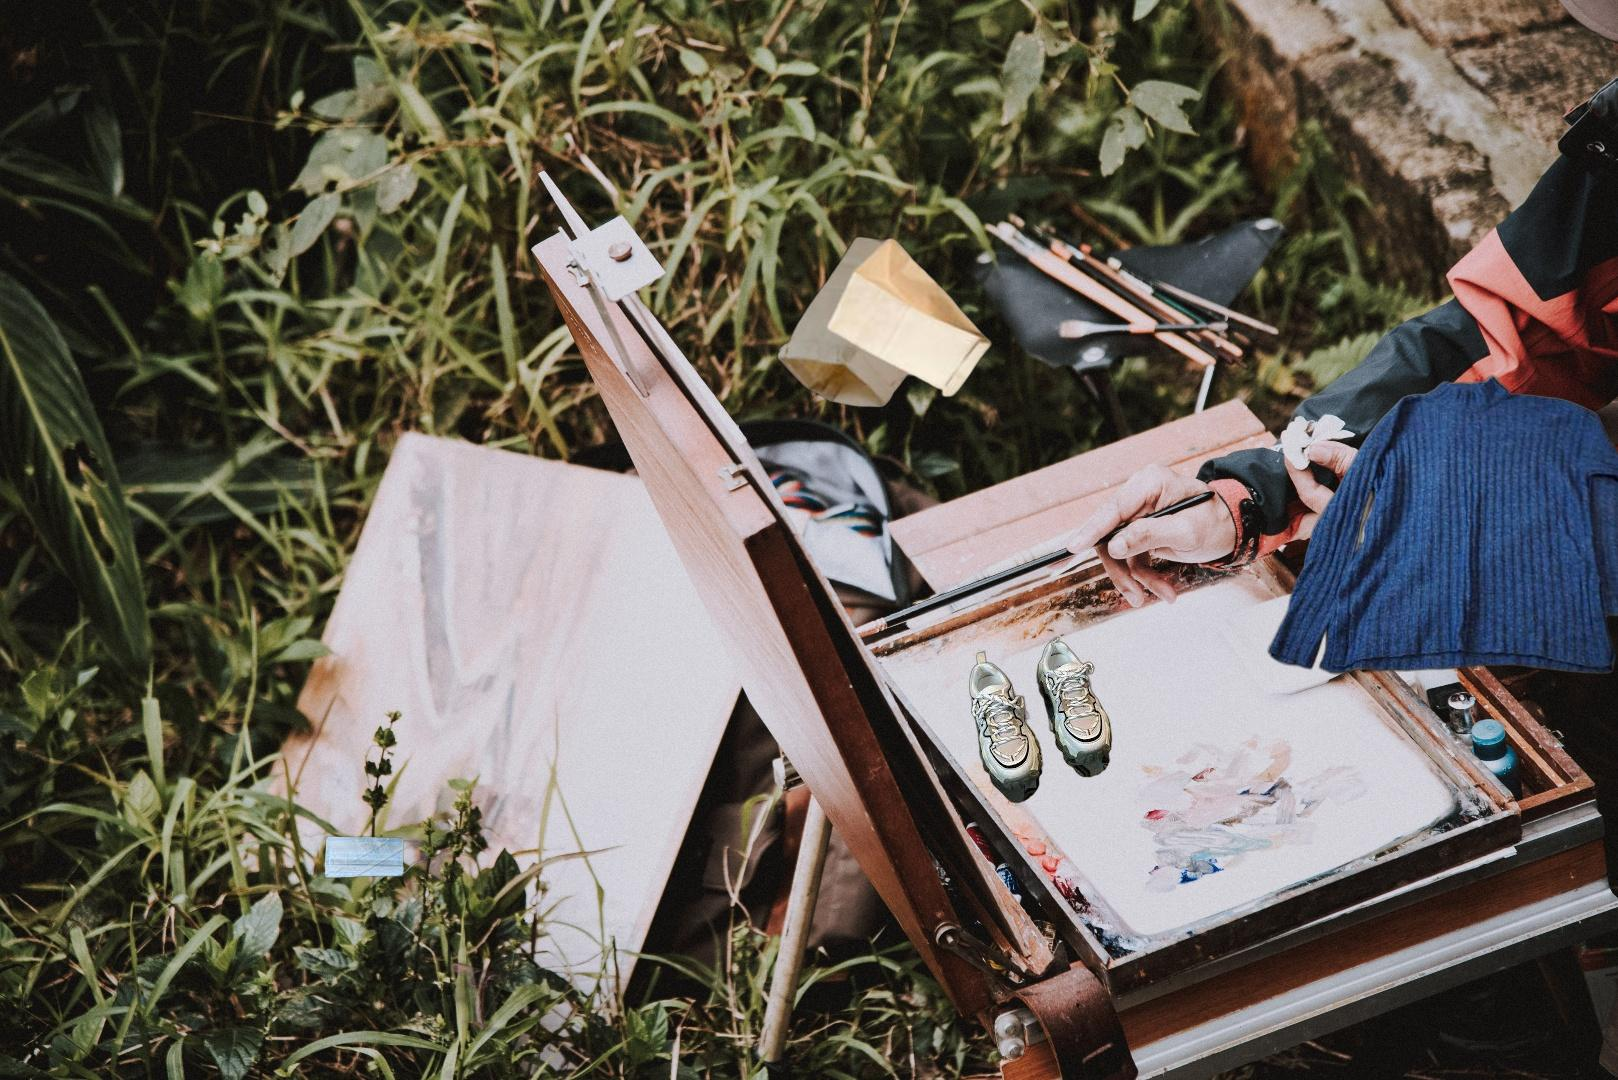clothes: (1265, 365, 1618, 677)
paper-bag: (773, 234, 995, 442)
shoes: (966, 634, 1114, 806)
trash: (302, 833, 428, 881)
trashbox-cardboard: (353, 892, 743, 1080)
